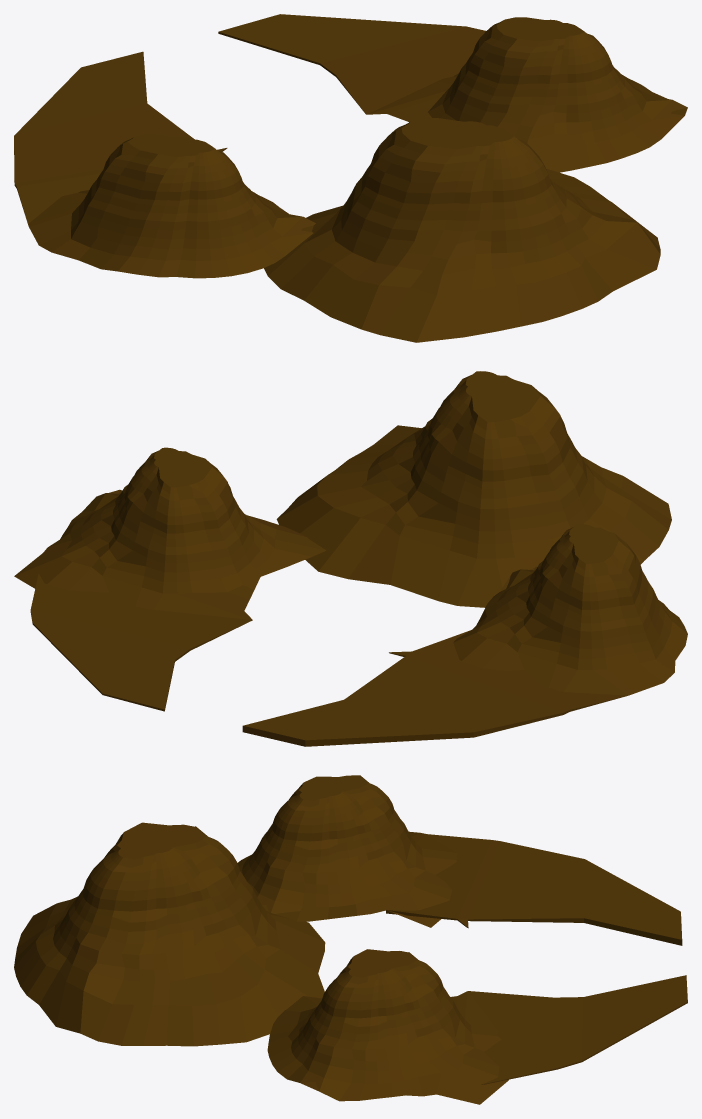
Rendered from TownGraveMap.fbx.
3 renders of one model, top to bottom at view 1: azimuth 30°, elevation 25°; view 2: azimuth 150°, elevation 25°; view 3: azimuth 270°, elevation 25°, orthographic. The views are drawn at different scales.
Visible parts, largest first — view 1: Sphere.002, Sphere, Sphere.001; view 2: Sphere.002, Sphere, Sphere.001; view 3: Sphere.002, Sphere.001, Sphere.
Part boxes in pixels (left/top/right/bottom): Sphere.002: left=264, top=118, right=660, bottom=342; Sphere: left=14, top=51, right=315, bottom=278; Sphere.001: left=218, top=14, right=687, bottom=172; Sphere.002: left=276, top=371, right=671, bottom=607; Sphere: left=242, top=524, right=687, bottom=746; Sphere.001: left=14, top=447, right=326, bottom=711; Sphere.002: left=14, top=822, right=325, bottom=1046; Sphere.001: left=267, top=949, right=687, bottom=1104; Sphere: left=237, top=775, right=682, bottom=945.
Bounding box in the file's own units: 60520 × 12892 × 62286.
